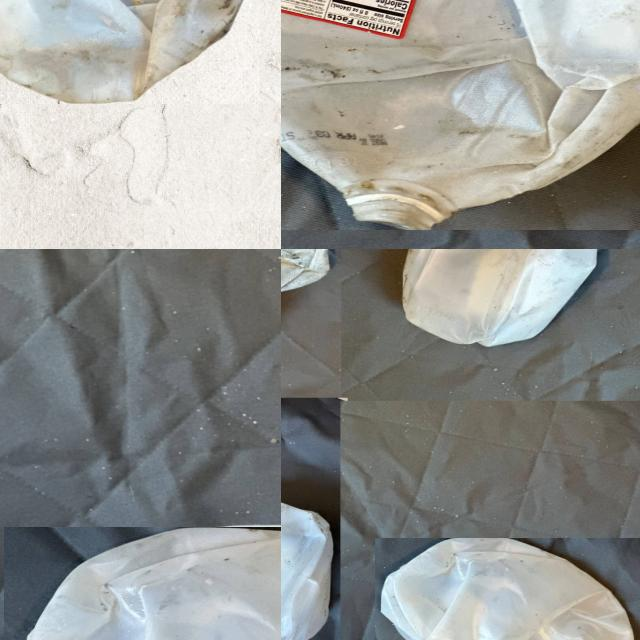milk-jug: (281, 0, 640, 230), (3, 527, 281, 640), (374, 538, 640, 640), (0, 0, 258, 104), (400, 249, 608, 345)
